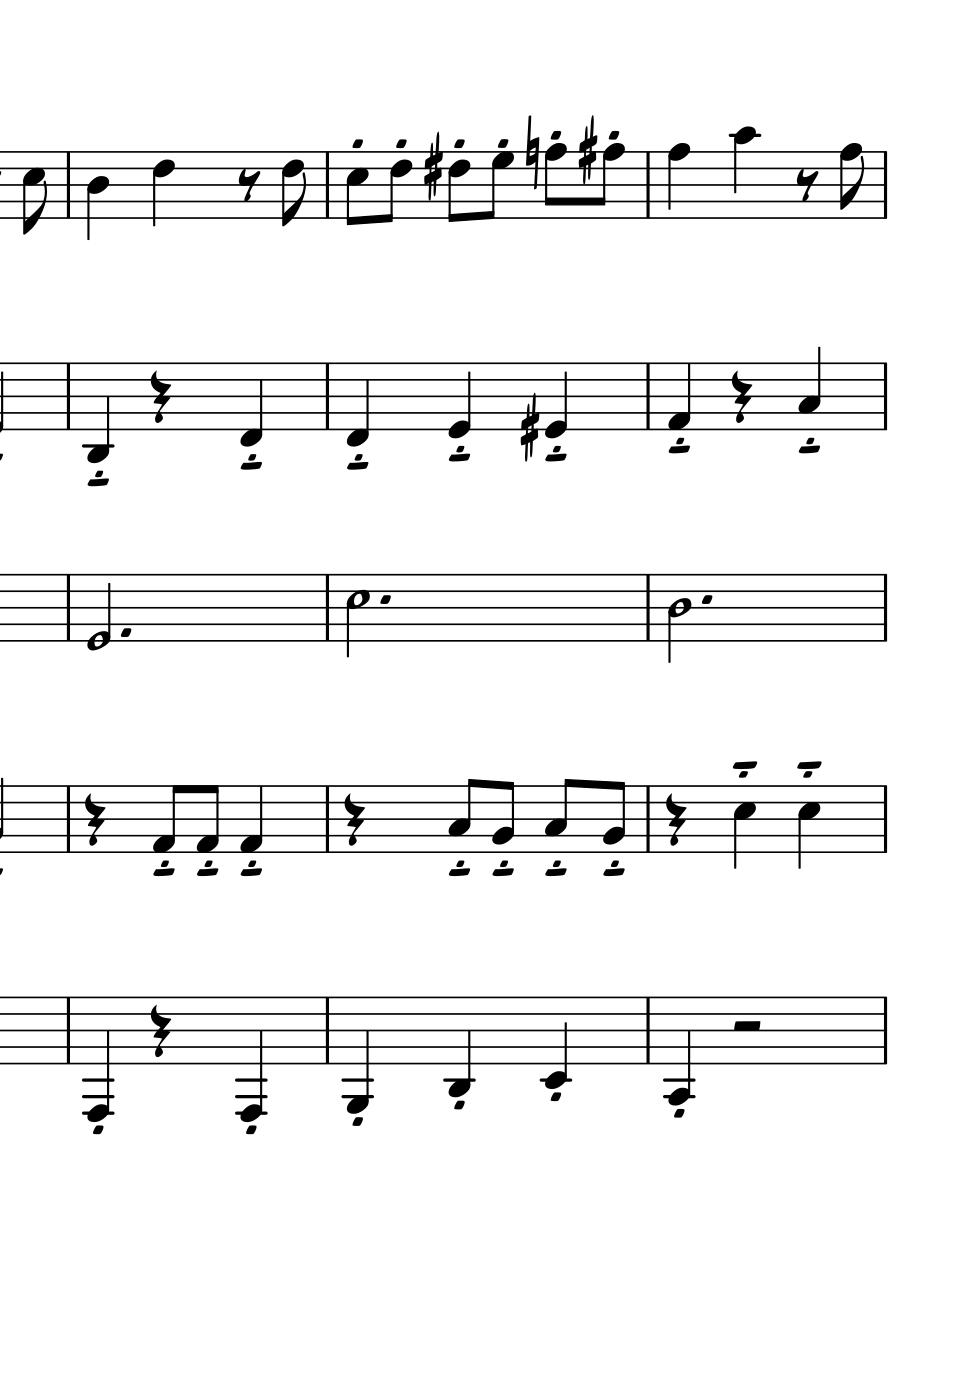2_0: (84, 572, 112, 653)
2_4: (665, 572, 692, 664)
2_5: (344, 573, 370, 659)
4_-1: (238, 359, 263, 448), (345, 359, 370, 448)
4_-2: (540, 995, 568, 1090)
4_-3: (444, 995, 473, 1101), (84, 358, 111, 466)
4_-4: (664, 994, 694, 1107)
4_-5: (343, 994, 372, 1115)
4_-6: (82, 994, 115, 1122), (234, 994, 267, 1121)
4_0: (447, 359, 472, 440), (543, 359, 568, 440)
4_1: (237, 784, 265, 855), (665, 361, 692, 431)
4_10: (729, 125, 758, 222)
4_3: (795, 346, 822, 429)
4_4: (84, 150, 110, 242)
4_5: (795, 784, 821, 872), (731, 785, 756, 872)
4_6: (150, 150, 176, 229)
4_8: (664, 142, 692, 221)
8_1: (148, 783, 182, 855), (193, 784, 220, 856)
8_2: (489, 780, 515, 855), (600, 779, 626, 854)
8_3: (542, 776, 575, 855), (447, 777, 478, 854)
8_5: (20, 150, 47, 236), (343, 150, 369, 228)
8_6: (279, 150, 309, 230), (380, 150, 412, 224), (447, 150, 470, 224)
8_7: (482, 150, 513, 220)
8_8: (593, 143, 624, 221), (837, 141, 867, 221), (542, 142, 567, 221)
Natural: (522, 115, 541, 193)
Rests2: (728, 1017, 767, 1039)
Rests4: (728, 369, 753, 425), (147, 369, 172, 425), (82, 792, 106, 848), (663, 792, 687, 848), (342, 792, 365, 848), (148, 1003, 171, 1059)
Rests8: (793, 168, 819, 203), (237, 166, 261, 203)
Sharp: (576, 118, 597, 186), (518, 396, 539, 462), (422, 136, 443, 201)
Single_barline: (640, 363, 657, 429), (319, 786, 336, 853), (640, 786, 657, 853), (640, 152, 657, 217), (319, 575, 336, 641), (876, 786, 893, 852), (60, 362, 76, 431), (60, 996, 76, 1065), (319, 997, 335, 1066), (877, 574, 893, 642), (640, 997, 655, 1065), (60, 152, 76, 218), (319, 152, 335, 218), (319, 363, 335, 429), (877, 363, 893, 429), (60, 786, 76, 853), (877, 997, 893, 1064), (640, 575, 655, 641), (877, 152, 892, 218), (62, 575, 74, 641)
dot: (377, 591, 392, 608), (700, 592, 715, 607), (116, 625, 132, 638)
